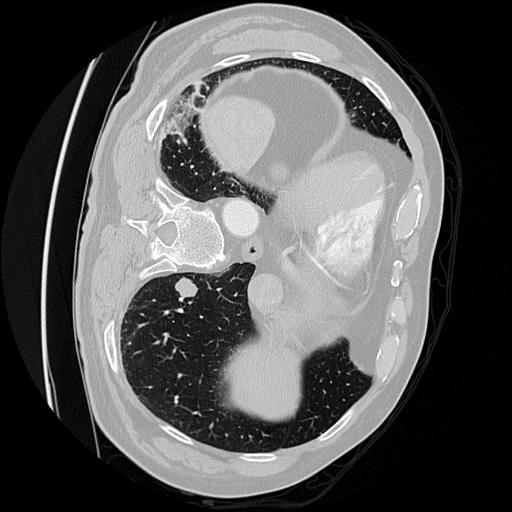nodule: (172, 276, 201, 305)
